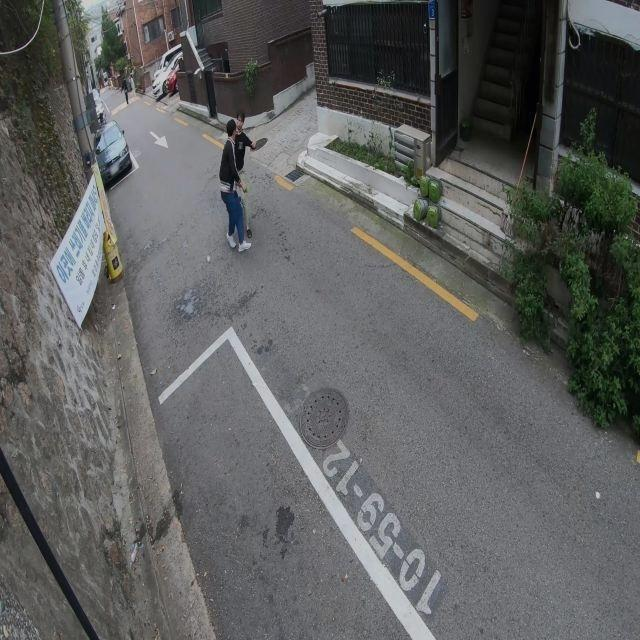fight: (217, 112, 256, 253)
